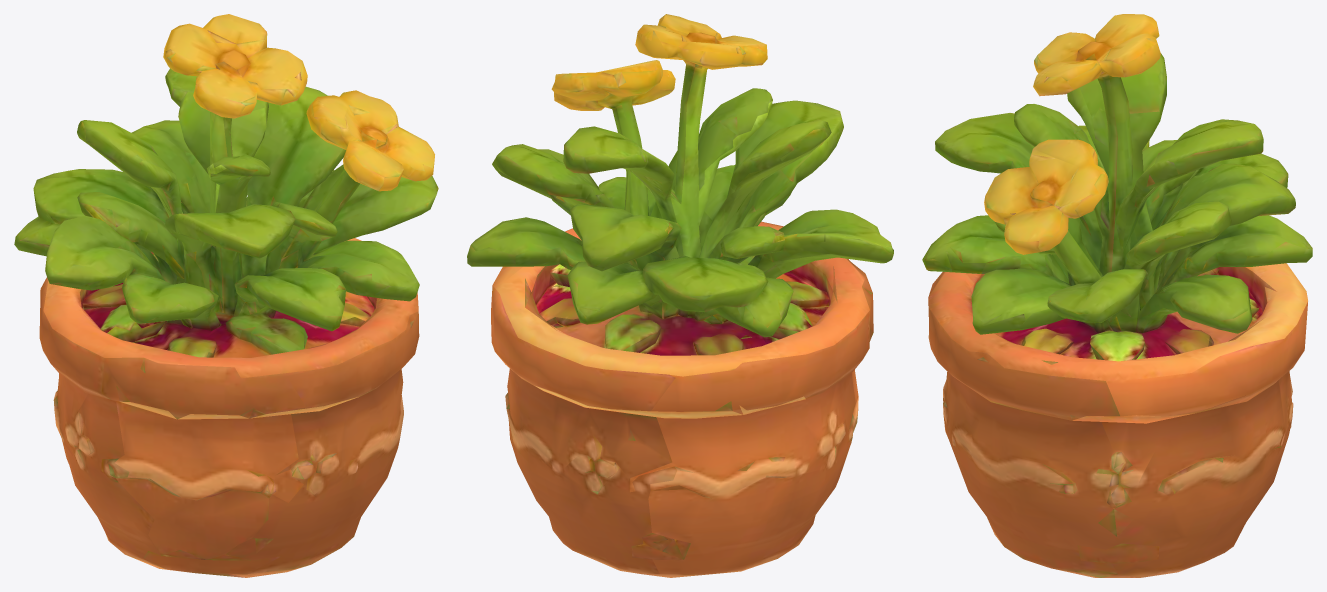
Rendered from flower-pot.glb.
3 renders of one model, left to right at view 1: azimuth 30°, elevation 25°; view 2: azimuth 150°, elevation 25°; view 3: azimuth 270°, elevation 25°, orthographic.
Visible parts, largest first — view 1: Mesh1.0; view 2: Mesh1.0; view 3: Mesh1.0.
Part boxes in pixels (left/top/right/bottom): Mesh1.0: left=14, top=14, right=438, bottom=577; Mesh1.0: left=467, top=14, right=893, bottom=577; Mesh1.0: left=922, top=14, right=1312, bottom=577.
Bounding box in the file's own units: 1.54 × 1.89 × 1.34.
Materials: 1 (1 with a texture image).
